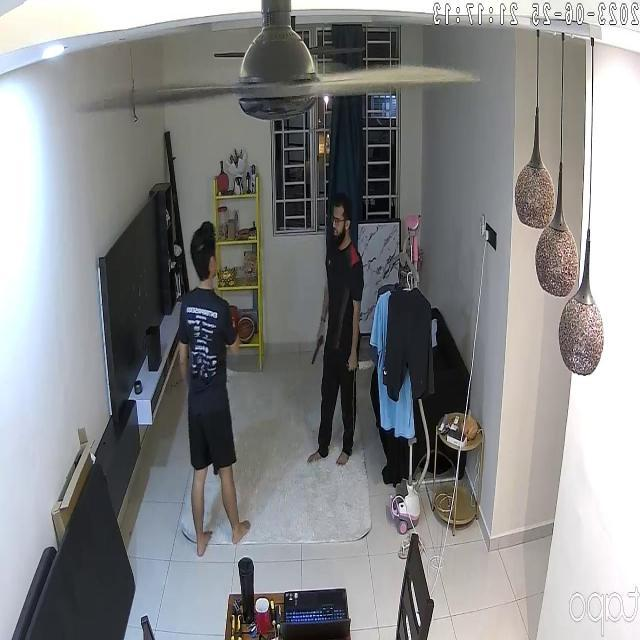Gun: (300, 322, 333, 373)
Knife: (345, 347, 379, 382)
